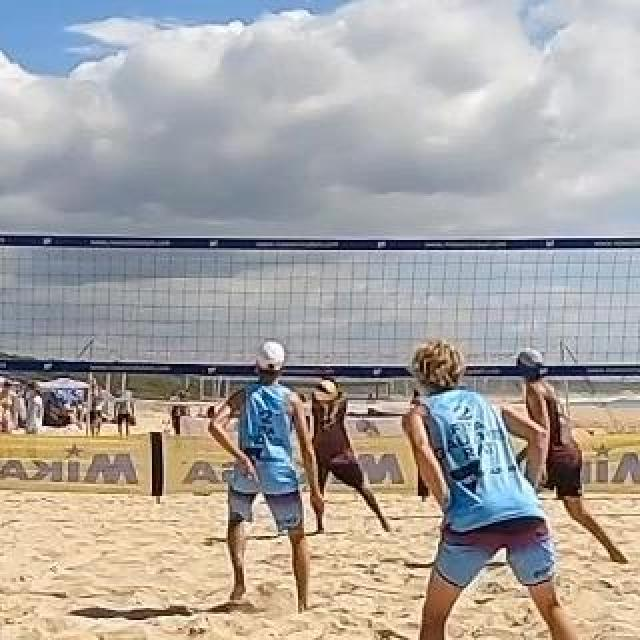volleyball: (314, 380, 338, 404)
